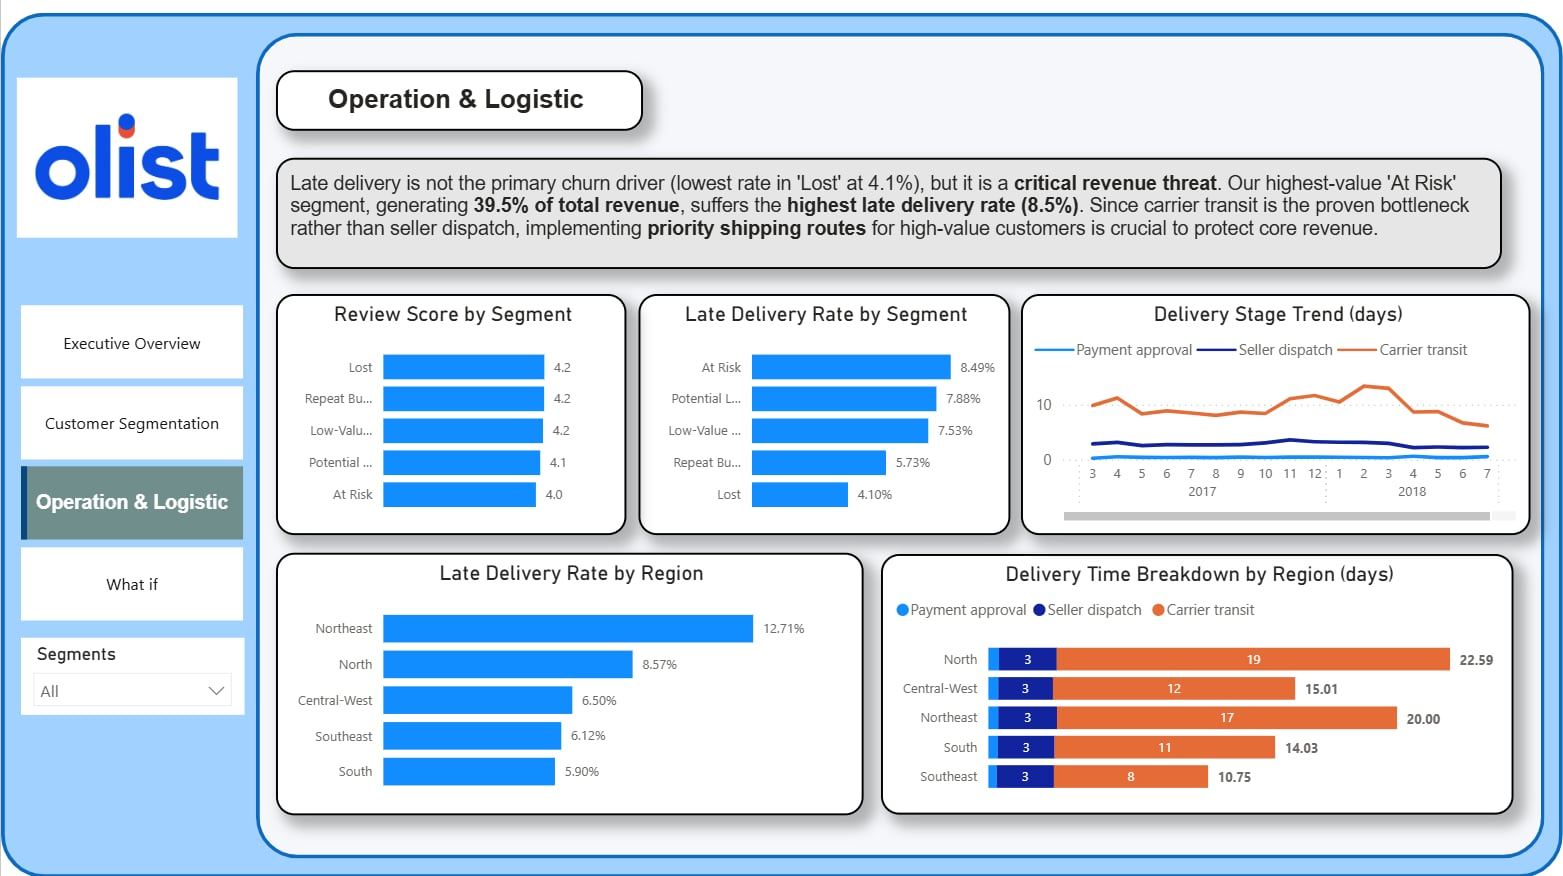

This screenshot's page, from the dashboard's own definition file:
{"tool":"powerbi","page":{"name":"Operation & Logistic","canvas":[1280,720],"ordinal":2},"visuals":[{"type":"shape","box":[0,10.9,1280,709.1],"z":0},{"type":"shape","box":[209,27.4,1056.1,676.7],"z":1000},{"type":"clusteredBarChart","title":"Late Delivery Rate by Segment","fields":{"Category":["dim_customers.current_segment"],"Y":["_Measures (2).Late Delivery Rate"]},"box":[522.5,241.3,304.8,197.8],"z":2000},{"type":"clusteredBarChart","title":"Review Score by Segment","fields":{"Category":["dim_customers.current_segment"],"Y":["Avg(fact_orders.order_review_score)"]},"box":[225.2,241.3,287.4,197.8],"z":3000},{"type":"clusteredBarChart","title":"Late Delivery Rate by Region","fields":{"Y":["_Measures (2).Late Delivery Rate"],"Category":["dim_customers.customer_region"]},"box":[225.2,454,481.4,215.2],"z":4000},{"type":"slicer","fields":{"Values":["dim_customers.current_segment"]},"box":[16.2,523.7,182.9,63.4],"z":5000},{"type":"pageNavigator","box":[16.2,251.3,182.9,258.7],"z":6000},{"type":"image","box":[8.7,27.4,190.3,205.3],"z":7000},{"type":"textbox","box":[225.2,58.5,301,49.8],"z":8000},{"type":"barChart","title":"Delivery Time Breakdown by Region (days)","fields":{"Category":["dim_customers.customer_region"],"Y":["Avg(fact_orders.days_approval)","Avg(fact_orders.days_dispatch)","Avg(fact_orders.days_transit)"]},"box":[721.5,455.3,518.7,214],"z":9000},{"type":"lineChart","title":"Delivery Stage Trend (days)","fields":{"Y":["Avg(fact_orders.days_approval)","Avg(fact_orders.days_dispatch)","Avg(fact_orders.days_transit)"],"Category":["dim_date.date_year","dim_date.date_month"]},"box":[835.9,241.3,418,197.8],"z":10000},{"type":"textbox","box":[225.2,130.6,1005.1,90.8],"z":11000}]}

Visuals, with their boxes in screenshot pixels (x1, y1, x2, y2), scaled from the page's 1280x720 canvas onto the 1563x876 screenshot:
shape: [0,13,1562,875]
shape: [255,33,1545,857]
"Late Delivery Rate by Segment" clusteredBarChart: [638,294,1010,534]
"Review Score by Segment" clusteredBarChart: [275,294,626,534]
"Late Delivery Rate by Region" clusteredBarChart: [275,552,863,814]
slicer - dim_customers.current_segment: [20,637,243,714]
pageNavigator: [20,306,243,620]
image: [11,33,243,283]
textbox: [275,71,643,132]
"Delivery Time Breakdown by Region (days)" barChart: [881,554,1514,814]
"Delivery Stage Trend (days)" lineChart: [1021,294,1531,534]
textbox: [275,159,1502,269]
